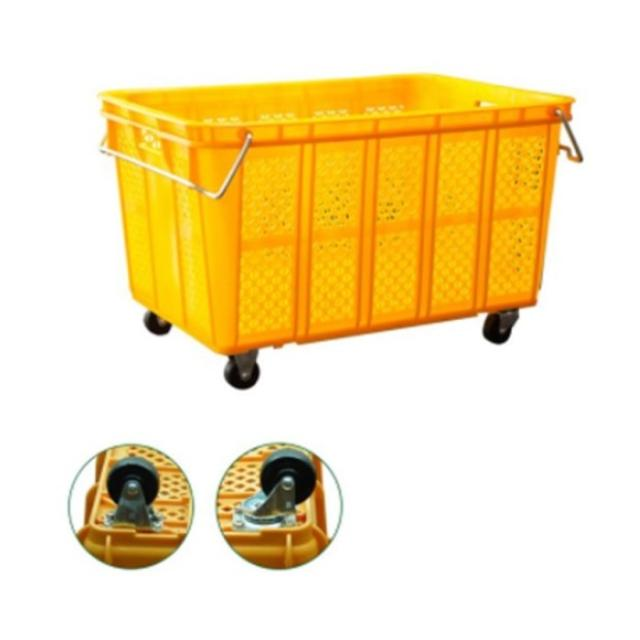basket: (96, 47, 600, 397)
